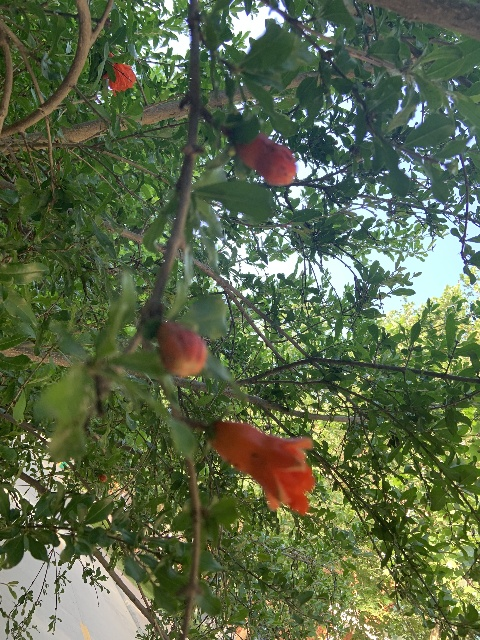bud: (236, 132, 296, 186), (157, 322, 207, 377)
flower: (207, 420, 315, 513), (102, 56, 136, 95)
